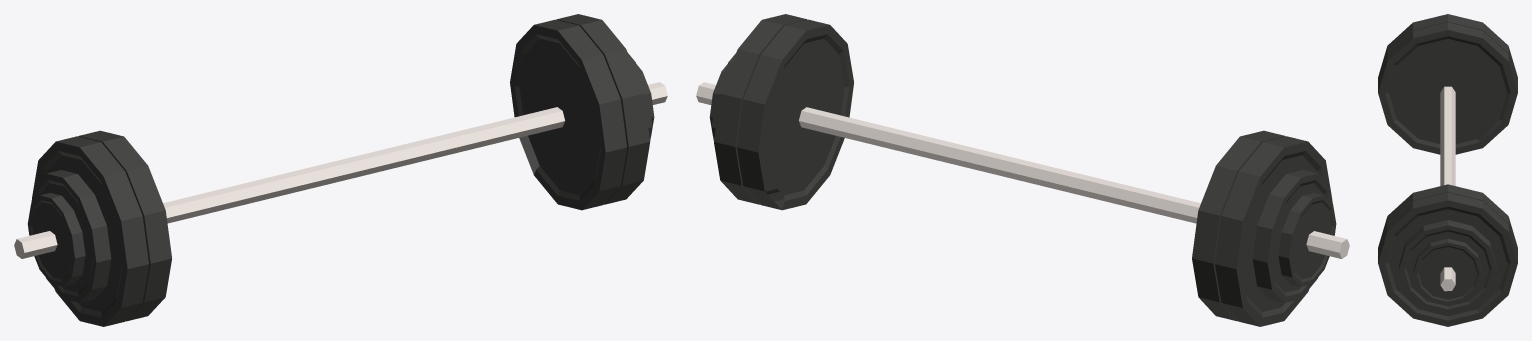
The model's file is barbells.glb.
3 views of the same model, side by side, from view 1: azimuth 30°, elevation 25°; view 2: azimuth 150°, elevation 25°; view 3: azimuth 270°, elevation 25° (orthographic). The views are drawn at different scales.
Parts seen in each view (by area): view 1: GymEquipments_11; view 2: GymEquipments_11; view 3: GymEquipments_11.
Boxes of the visible parts, x1,y1,x2,y2 form: GymEquipments_11: (14,14,667,326); GymEquipments_11: (696,14,1349,326); GymEquipments_11: (1378,14,1517,326).
Bounding box in the file's own units: 1.02 × 0.2619 × 0.2619.
Materials: 1 (1 with a texture image).
